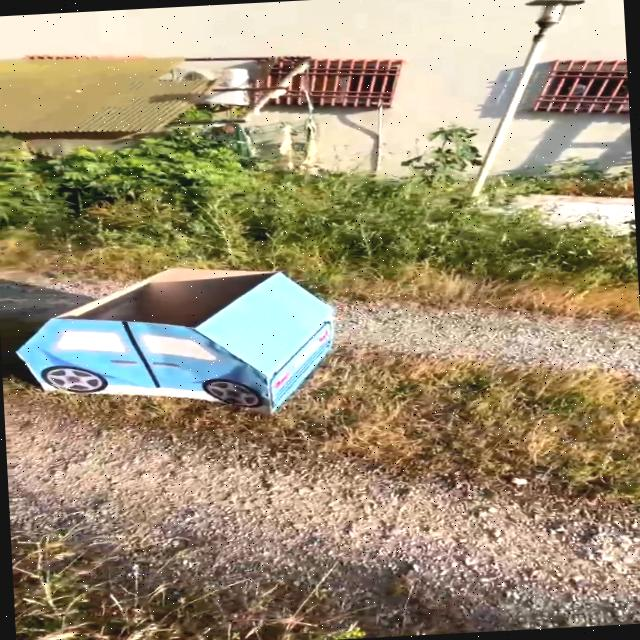blue_car: (0, 256, 367, 436)
